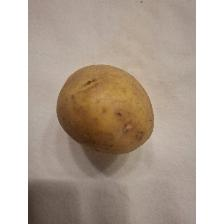Kartoffel: (54, 61, 158, 157)
